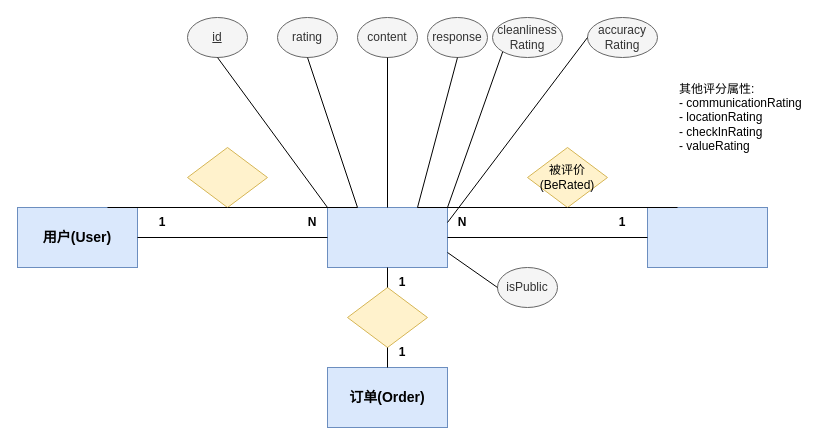
The diagram is 835 pixels wide and 445 high, and some of its shapes have lost their labels. The box of each missing label's shape, as (x1, y1, x2, y2) in pixels:
对应 (Correspond): (346, 286, 428, 348)
民宿(Homestay): (646, 206, 768, 268)
评价 (Rate): (186, 146, 268, 208)
评论(Review): (326, 206, 448, 268)
